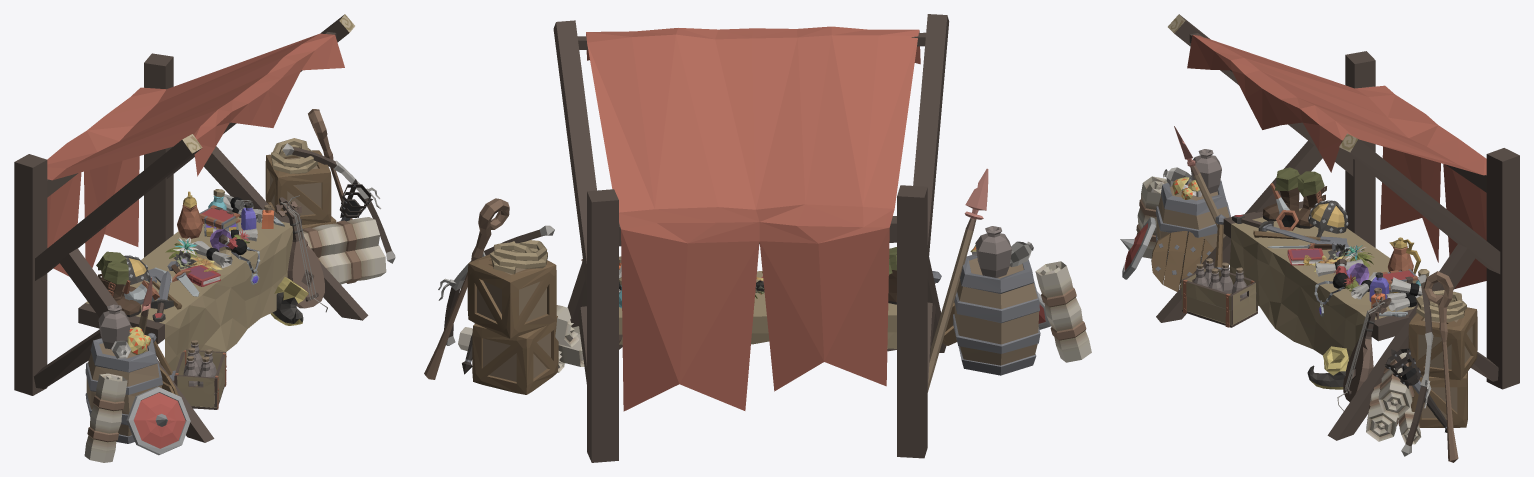
File: yardSale.fbx
The picture shows the model from 3 angles, left to right: view 1: azimuth 30°, elevation 25°; view 2: azimuth 150°, elevation 25°; view 3: azimuth 270°, elevation 25°; orthographic projection. The views are drawn at different scales.
Parts seen in each view (by area): view 1: yardSale; view 2: yardSale; view 3: yardSale.
Part boxes in pixels (box(x1,y1,x2,y2)): yardSale: box(14, 14, 395, 462); yardSale: box(424, 14, 1091, 462); yardSale: box(1120, 14, 1519, 462).
Size of the model in its own units: 6.11 by 4.02 by 4.84.
